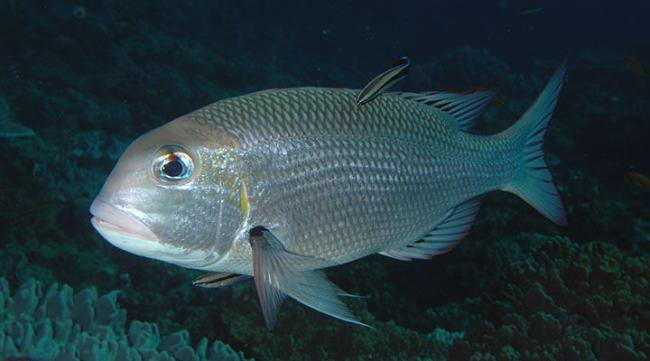fish: (89, 55, 569, 329)
